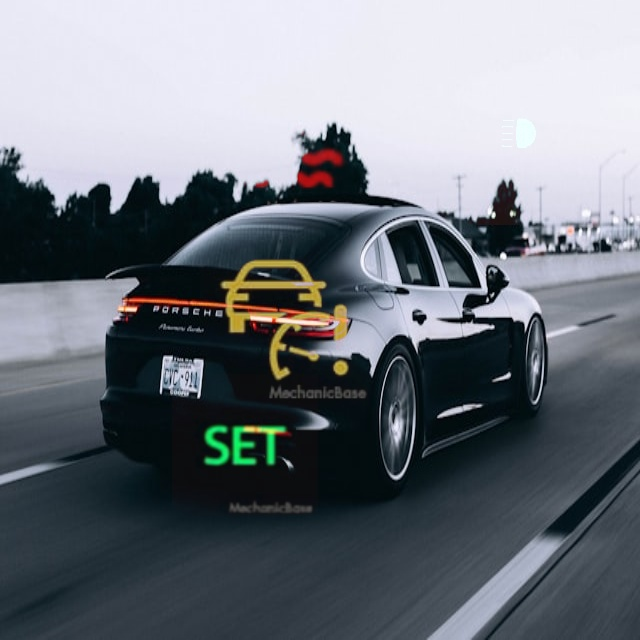symbol: (434, 55, 604, 225), (200, 236, 369, 405), (200, 53, 368, 221), (172, 374, 318, 520)
